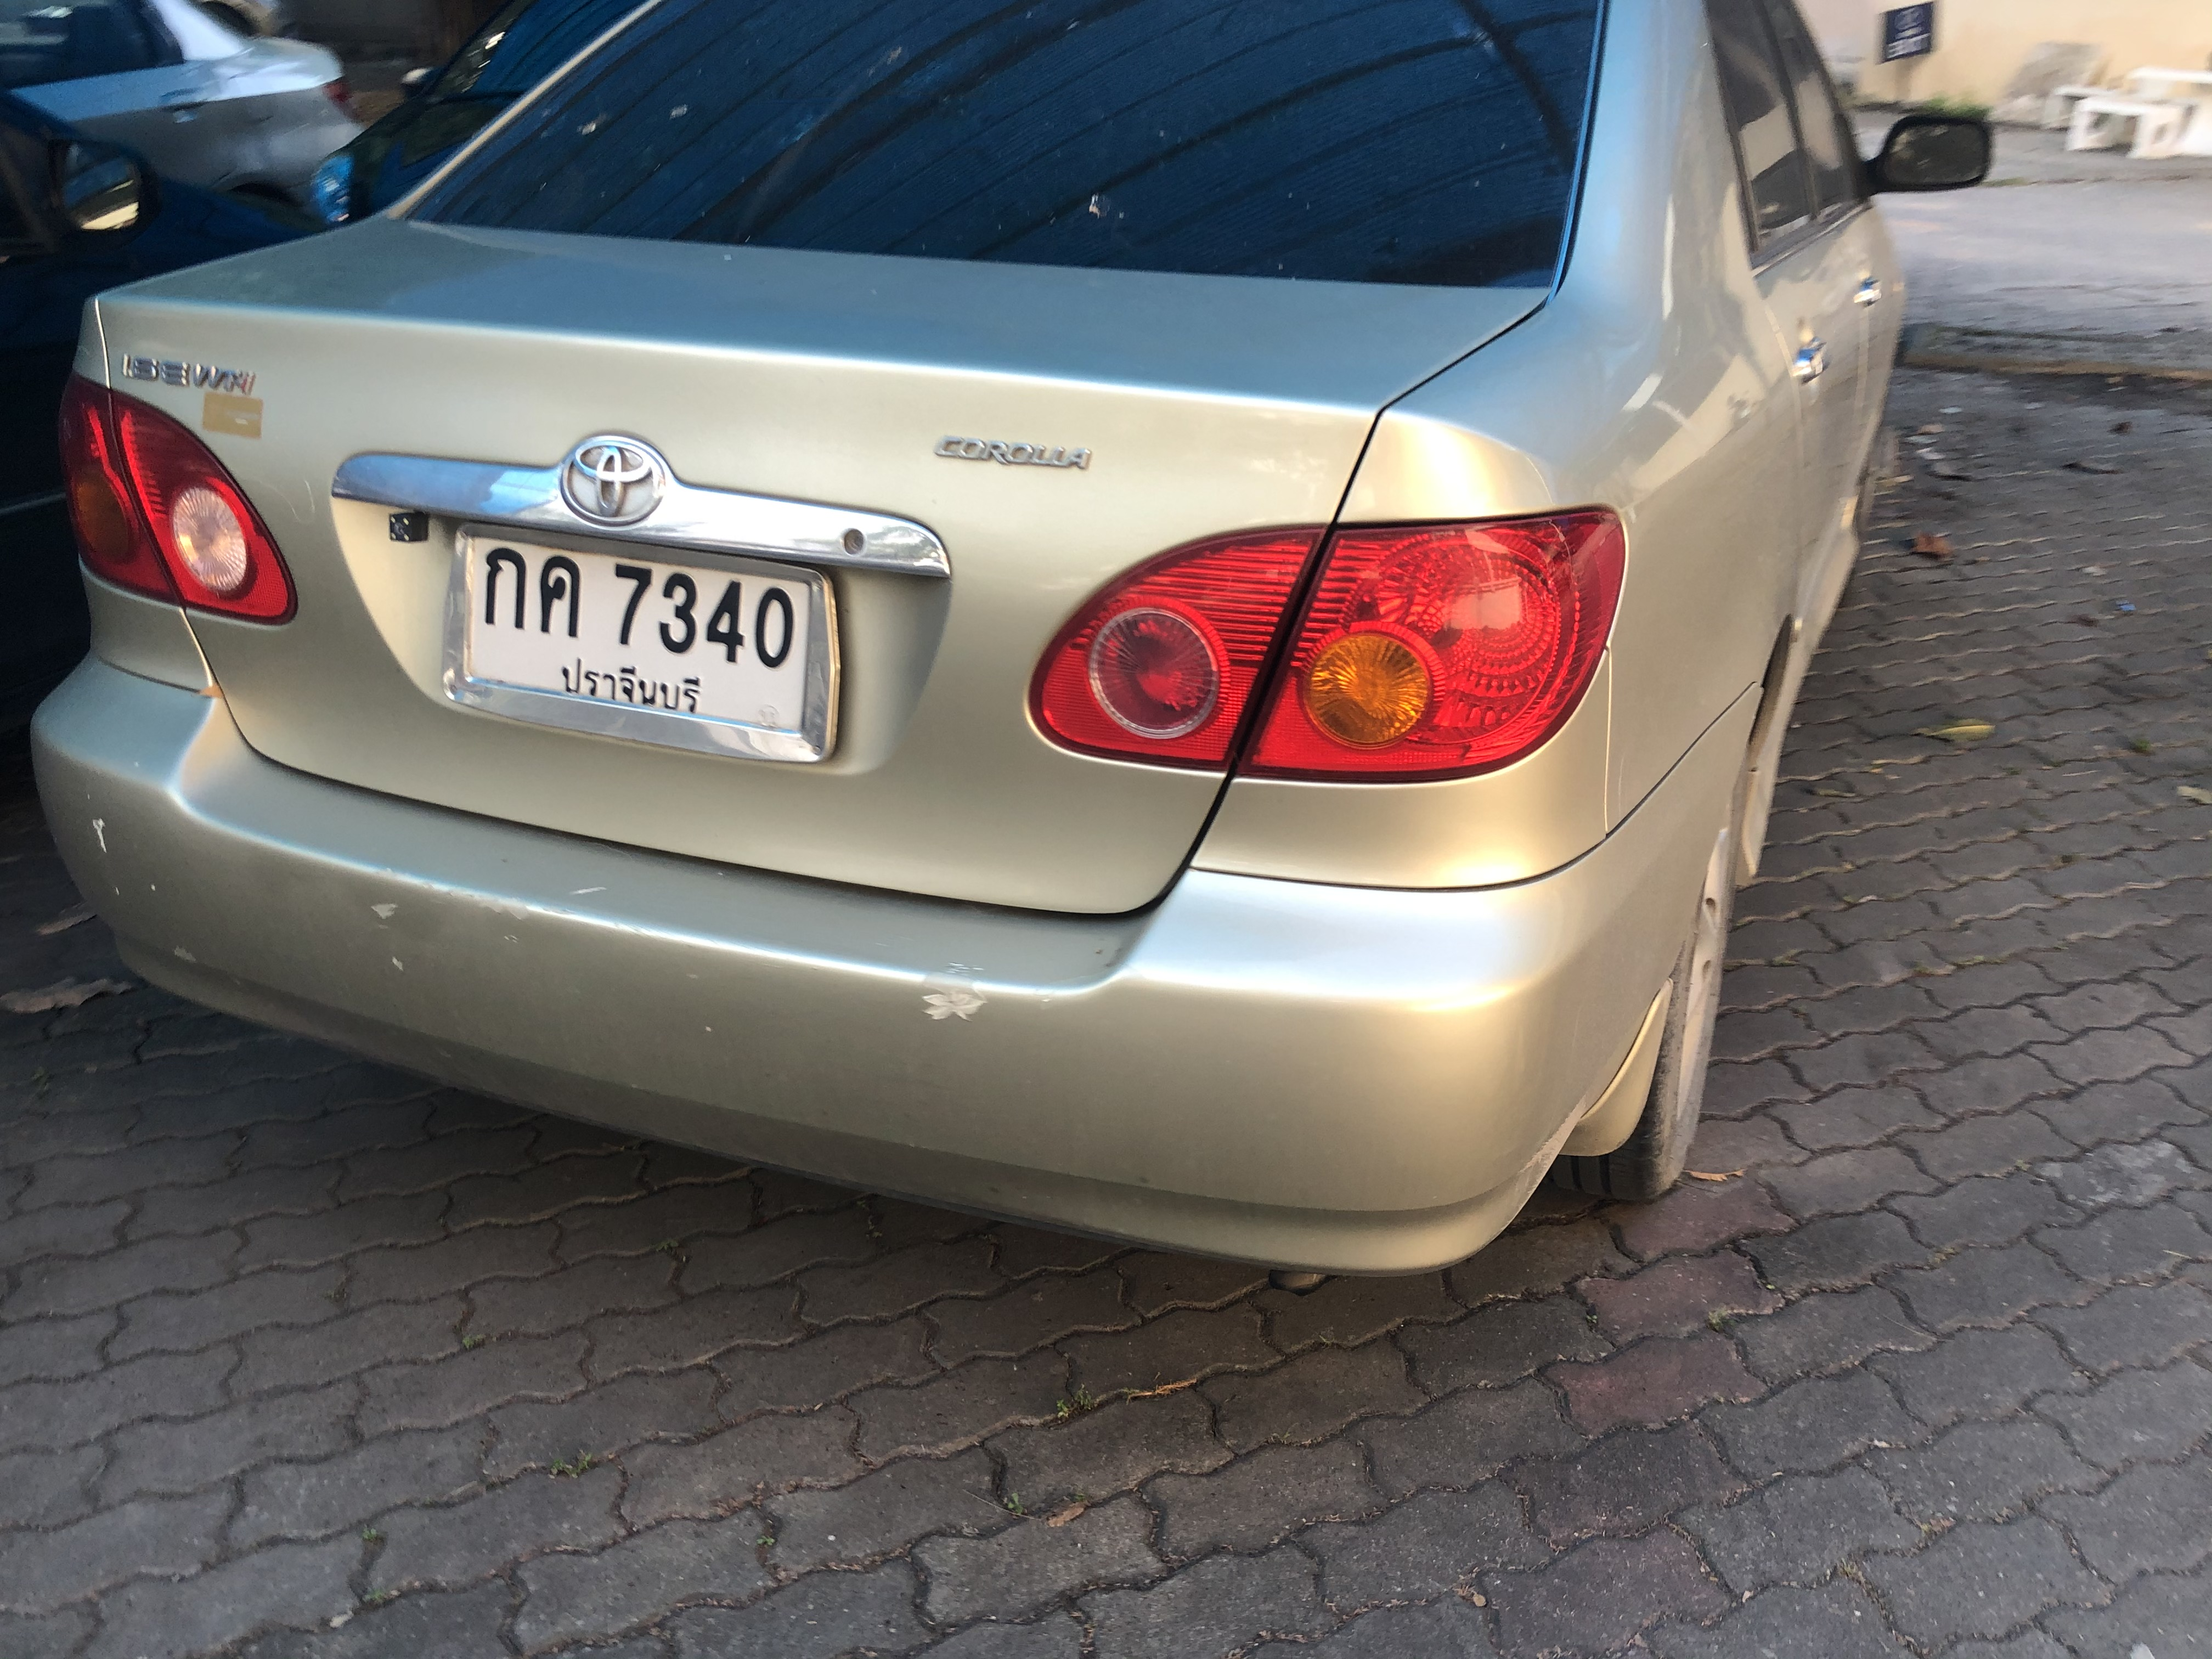in: (465, 538, 810, 735)
out: (442, 521, 845, 763)
